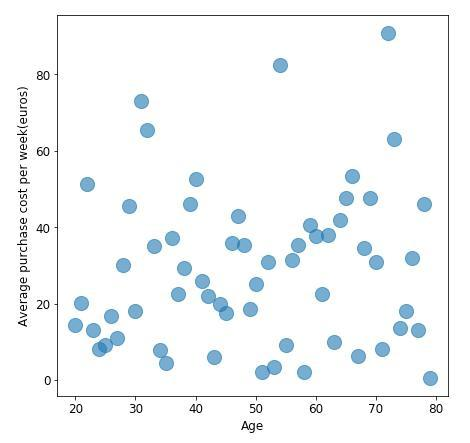axis: (51, 14, 63, 398), (52, 393, 452, 403)
point: (270, 55, 292, 76), (379, 24, 400, 45), (113, 256, 135, 276), (247, 275, 269, 294), (229, 207, 250, 226), (415, 194, 434, 215), (324, 333, 345, 352), (137, 122, 159, 140), (312, 285, 334, 303), (204, 348, 225, 366), (118, 198, 140, 215), (187, 170, 207, 188), (132, 93, 151, 111), (102, 308, 121, 326), (194, 271, 213, 289), (343, 167, 362, 185), (265, 359, 284, 377), (295, 364, 314, 382), (422, 370, 441, 388), (181, 196, 201, 213), (396, 303, 417, 319), (200, 288, 218, 306), (373, 341, 391, 359), (391, 320, 409, 338), (79, 176, 98, 193), (72, 295, 91, 312), (152, 341, 171, 358), (157, 354, 176, 371), (174, 259, 193, 276), (330, 213, 349, 230), (368, 252, 385, 271), (403, 250, 422, 267), (349, 348, 368, 365), (85, 321, 103, 338), (260, 254, 278, 271), (356, 240, 374, 257), (278, 337, 296, 354), (65, 317, 84, 333), (125, 303, 144, 319), (165, 229, 181, 248), (238, 234, 254, 253), (289, 237, 308, 253), (301, 217, 320, 233), (253, 365, 272, 381), (242, 301, 259, 318), (362, 190, 379, 207), (386, 131, 403, 148), (411, 322, 428, 339), (219, 304, 235, 322), (170, 287, 188, 303), (224, 235, 240, 253), (321, 226, 337, 244), (107, 331, 127, 345), (212, 295, 228, 312), (146, 238, 163, 254), (338, 190, 356, 205), (284, 253, 301, 268), (308, 227, 323, 244), (88, 344, 107, 357), (98, 338, 114, 352)
